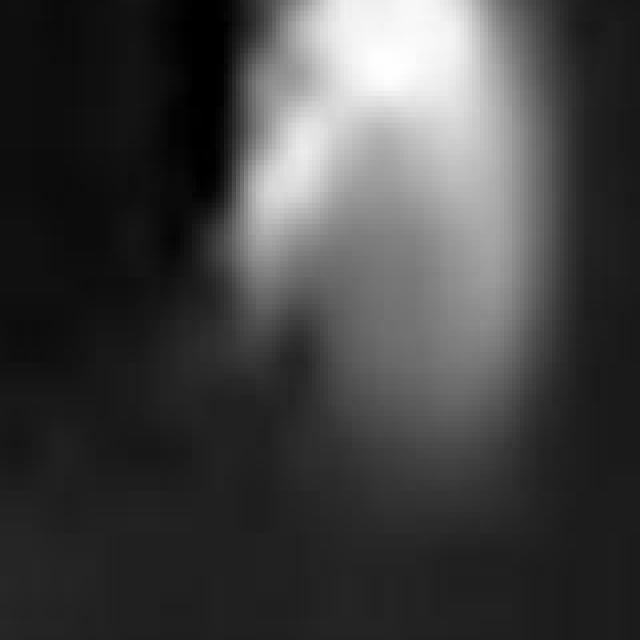person: (209, 1, 561, 449)
